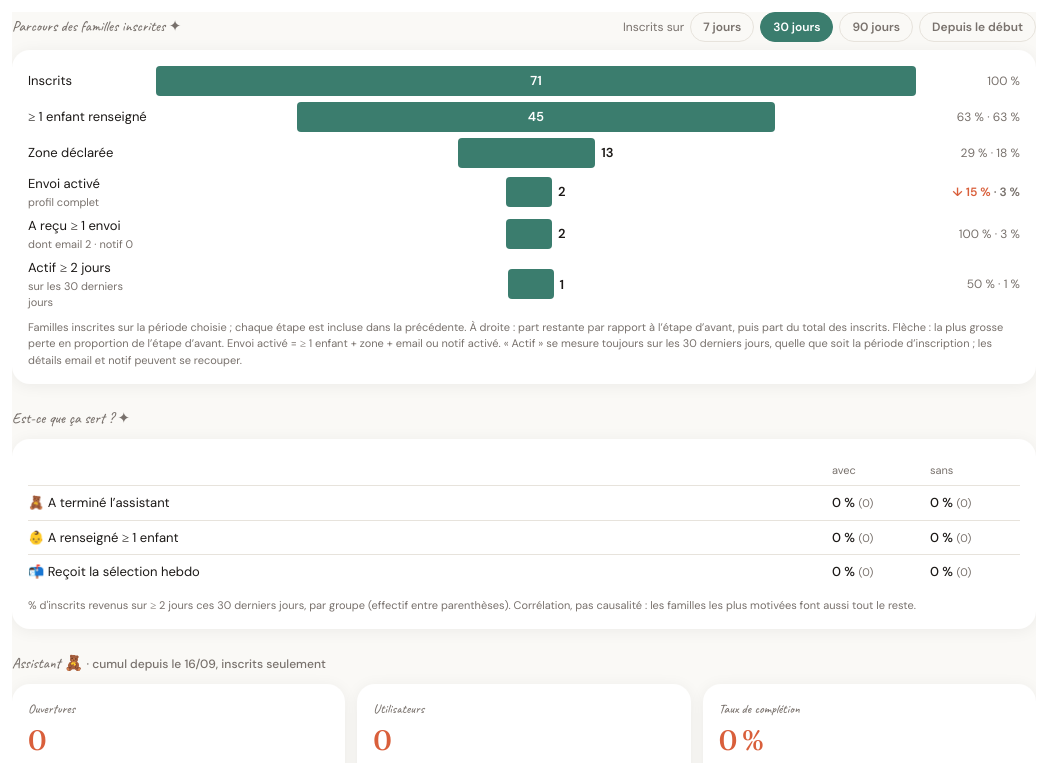
Scenario: EngagementTab — entonnoir › signale une fenêtre absente sans casser le reste de l’onglet
Click the button "90 jours": {"x": 876, "y": 27} [840,12,913,42]
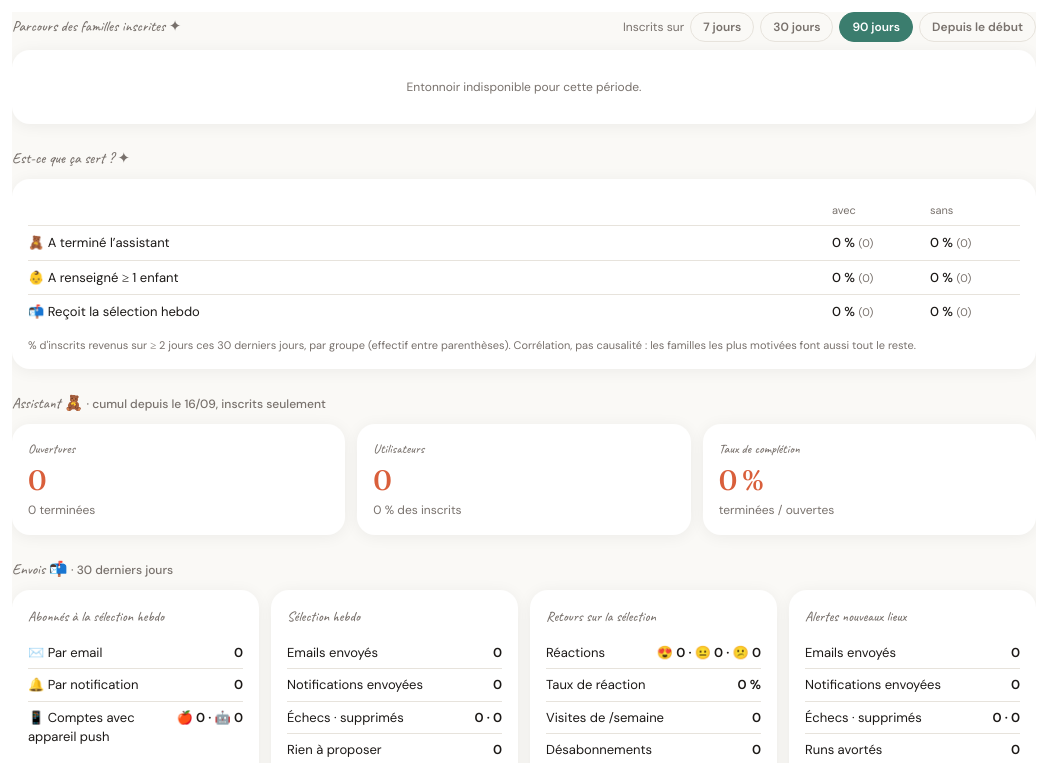
Expected: the text "Est-ce que ça sert" is shown, [12,149,130,168]
Now the text "Entonnoir indisponible pour cette période." is shown, box [407,79,642,95]
